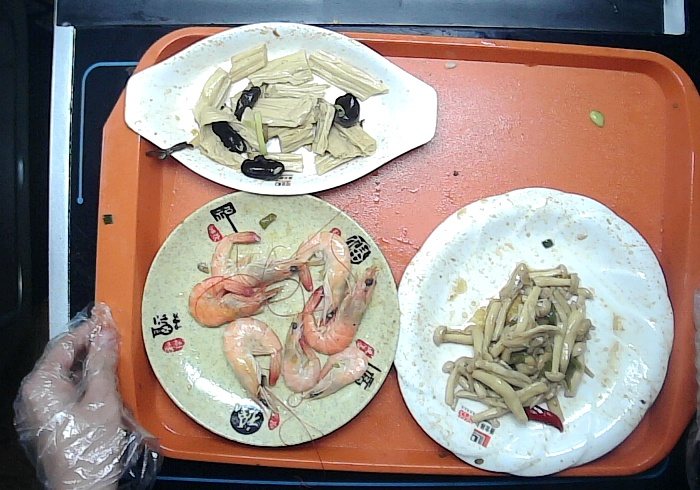NLDX-Bai_Zhe_Yuan_Pan: (386, 184, 686, 477)
NLDX-Fu_Zi_Yuan_Pan: (142, 193, 398, 456)
NLDX-Yu_Pan: (121, 22, 440, 193)
